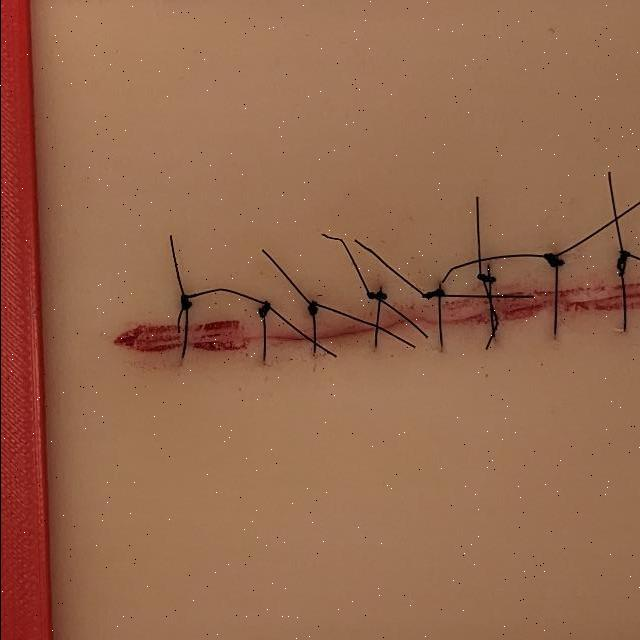knot_good: (248, 296, 278, 324), (172, 290, 197, 316)
knot_loose: (606, 246, 638, 276)
knot_perfect: (531, 247, 571, 277)
knot_tight: (467, 260, 507, 286), (300, 282, 323, 323), (418, 279, 452, 302), (361, 285, 393, 305)
suture_good: (544, 271, 570, 367), (173, 313, 199, 402), (366, 303, 388, 375), (613, 276, 629, 374), (255, 320, 275, 392), (304, 318, 324, 382)
suture_loose: (479, 289, 500, 379)
suture_tight: (430, 301, 448, 390)
